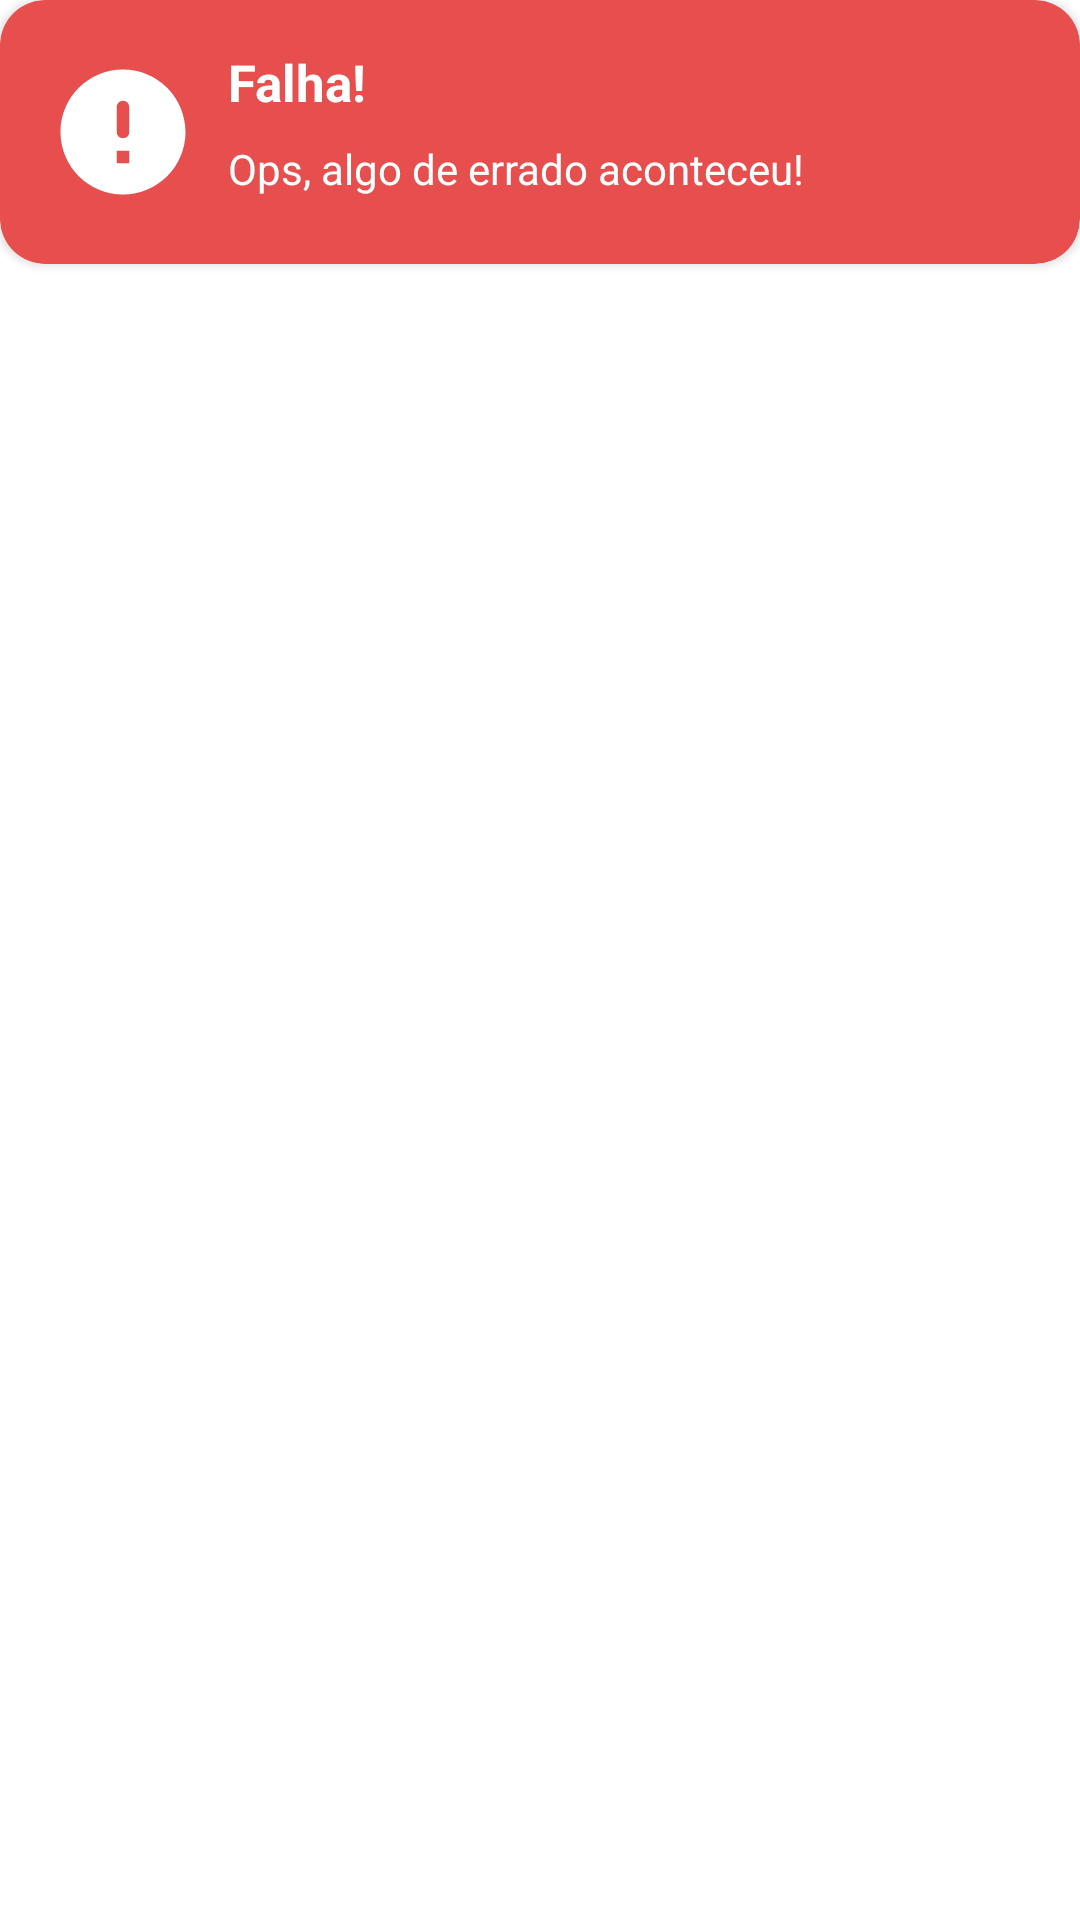

Icons on this 1080 x 1920 Android screen, each with its box as bbox=[x1, y1, x2, y2]:
error: bbox=[60, 69, 186, 195]
